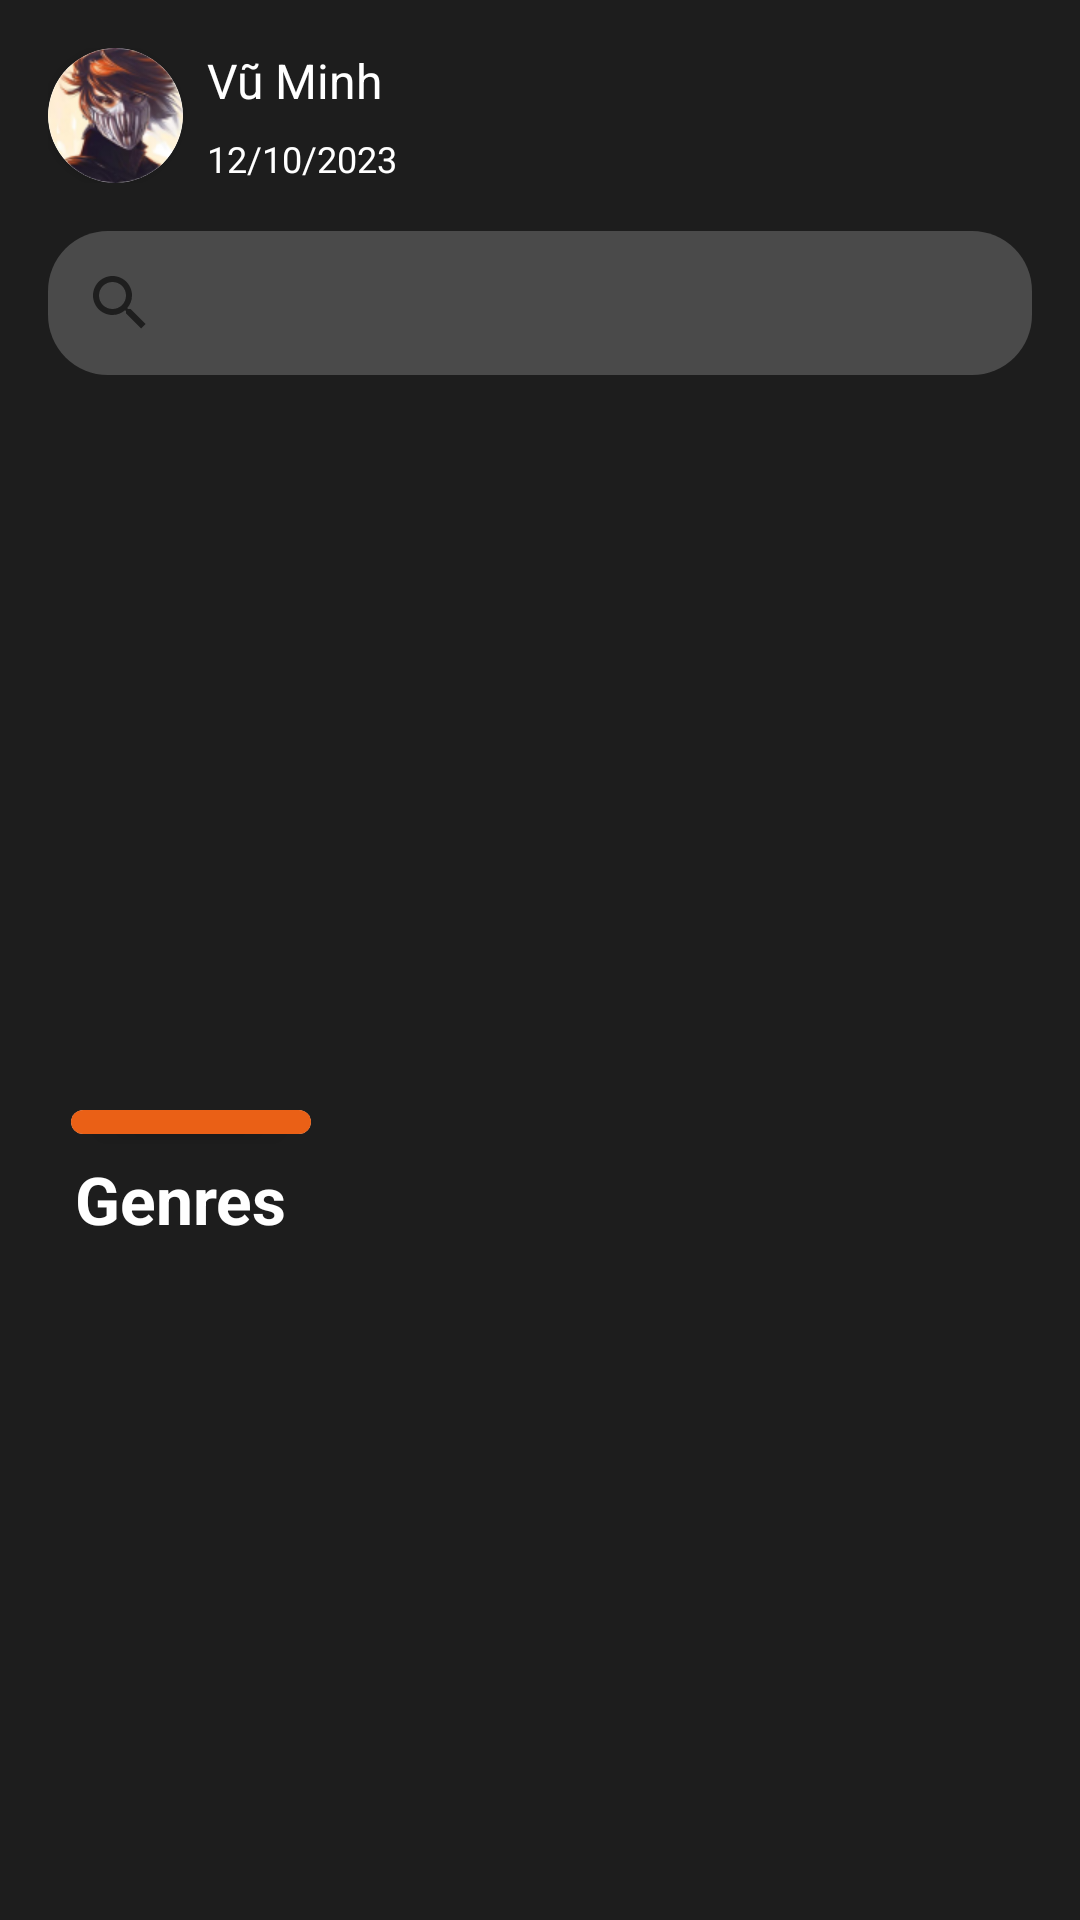

Named icons in this screenshot (1080*1920) and their centers, (x,y):
avata: (115,115)
